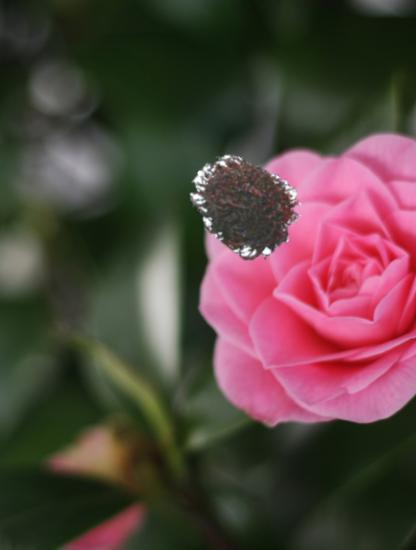Rambutan: (188, 147, 304, 263)
